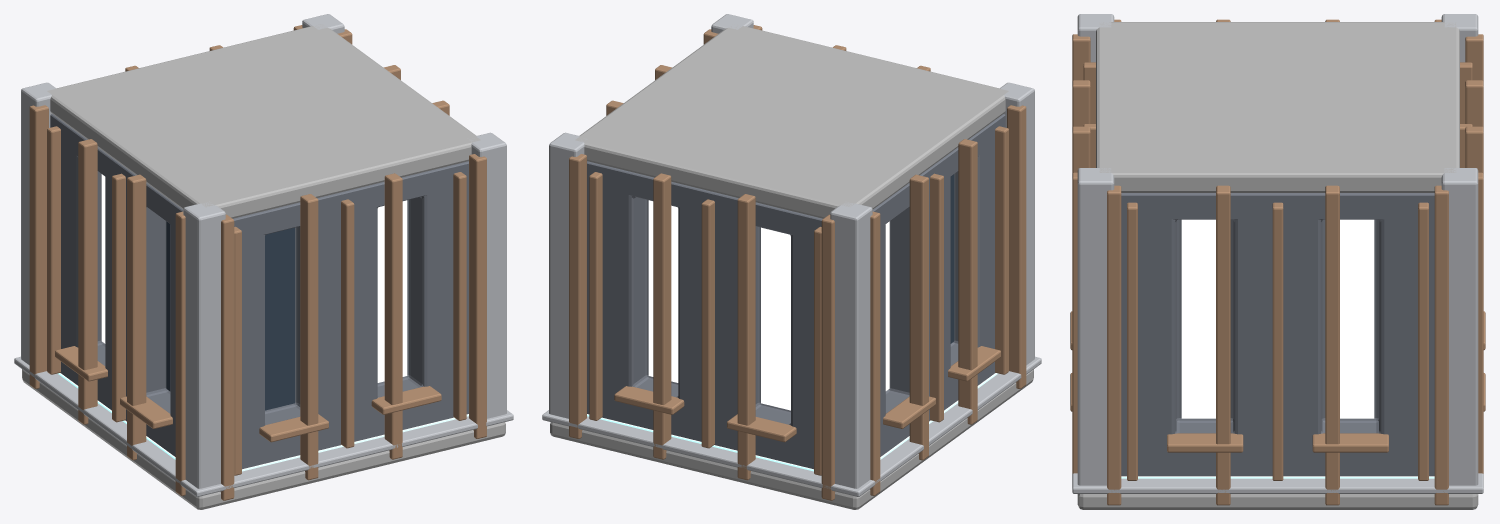
File: deco_2x2.glb
The picture shows the model from 3 angles, left to right: view 1: azimuth 30°, elevation 25°; view 2: azimuth 150°, elevation 25°; view 3: azimuth 270°, elevation 25°; orthographic projection. The views are drawn at different scales.
Parts seen in each view (by area): view 1: int_ceiling, ext_wall, ext_ribs, int_columns, ext_frames, int_slab_edge, ext_panes_dark, int_slab, ext_panes_lit, int_grid; view 2: int_ceiling, ext_wall, ext_ribs, int_columns, ext_frames, ext_panes_lit, int_slab_edge, int_slab, ext_panes_dark, int_grid; view 3: int_ceiling, ext_wall, ext_ribs, int_columns, ext_frames, ext_panes_lit, int_slab, int_slab_edge, int_grid.
Part boxes in pixels (box(x1,y1,x2,y2)): int_ceiling: box(47, 24, 480, 218); ext_wall: box(50, 114, 468, 469); ext_ribs: box(29, 25, 486, 500); int_columns: box(21, 14, 506, 488); ext_frames: box(47, 126, 466, 475); int_slab_edge: box(14, 356, 513, 496); ext_panes_dark: box(166, 221, 294, 410); int_slab: box(22, 369, 505, 509); ext_panes_lit: box(101, 174, 407, 382); int_grid: box(57, 373, 468, 471); int_ceiling: box(575, 26, 1008, 218); ext_wall: box(587, 114, 1005, 469); ext_ribs: box(569, 25, 1026, 500); int_columns: box(549, 14, 1034, 488); ext_frames: box(589, 126, 1008, 475); ext_panes_lit: box(648, 200, 889, 410); int_slab_edge: box(542, 356, 1041, 496); int_slab: box(550, 369, 1033, 509); ext_panes_dark: box(950, 174, 954, 343); int_grid: box(587, 373, 998, 471); int_ceiling: box(1096, 22, 1459, 192); ext_wall: box(1121, 193, 1434, 476); ext_ribs: box(1072, 19, 1483, 505); int_columns: box(1077, 14, 1478, 485); ext_frames: box(1070, 62, 1485, 480); ext_panes_lit: box(1181, 219, 1374, 418); int_slab: box(1077, 494, 1478, 509); int_slab_edge: box(1072, 473, 1483, 493); int_grid: box(1121, 476, 1434, 478).
Size of the model in its own units: 2.28 by 2 by 2.28.
